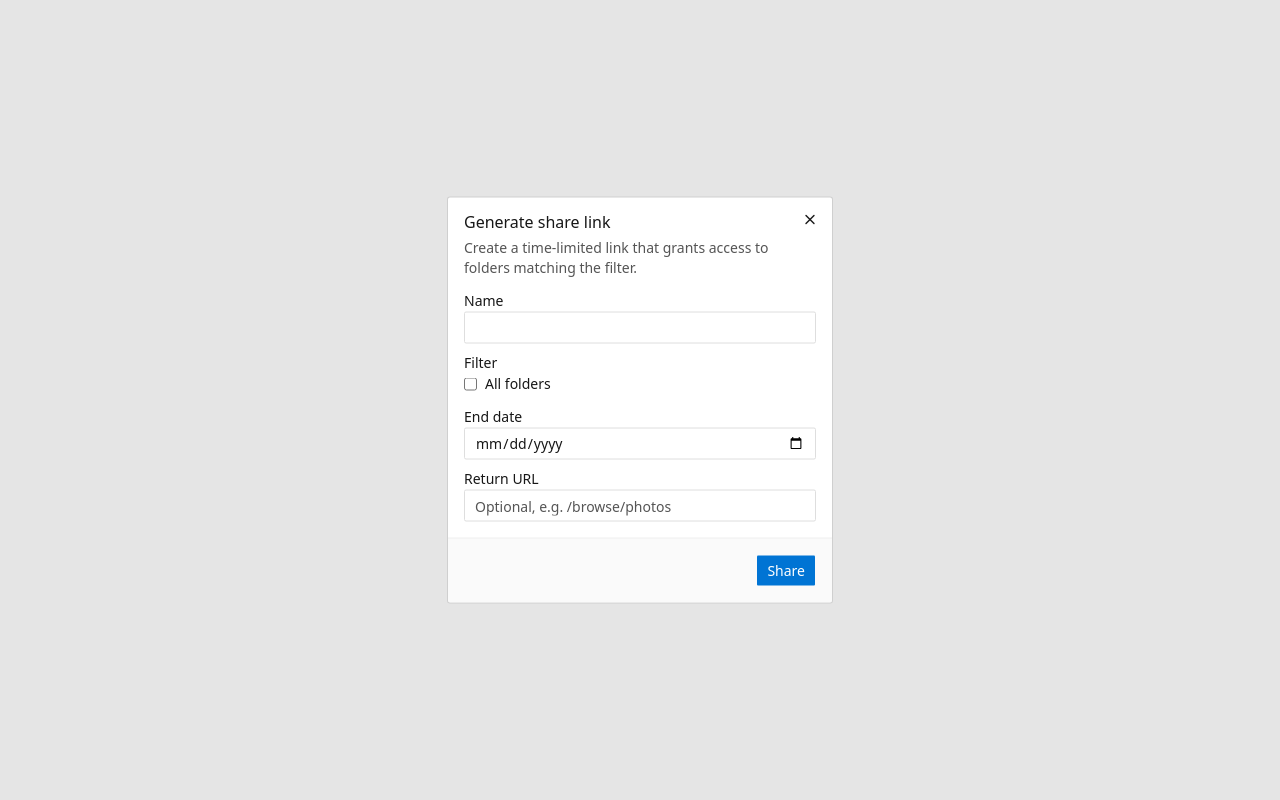
Scenario: shareLinkDialog error clearing › clears an error when the field is corrected after a failed submit
Note: Act — submit empty, then fix the Name field
Click the button "Share".
click(786, 570)  # box [756, 554, 816, 586]
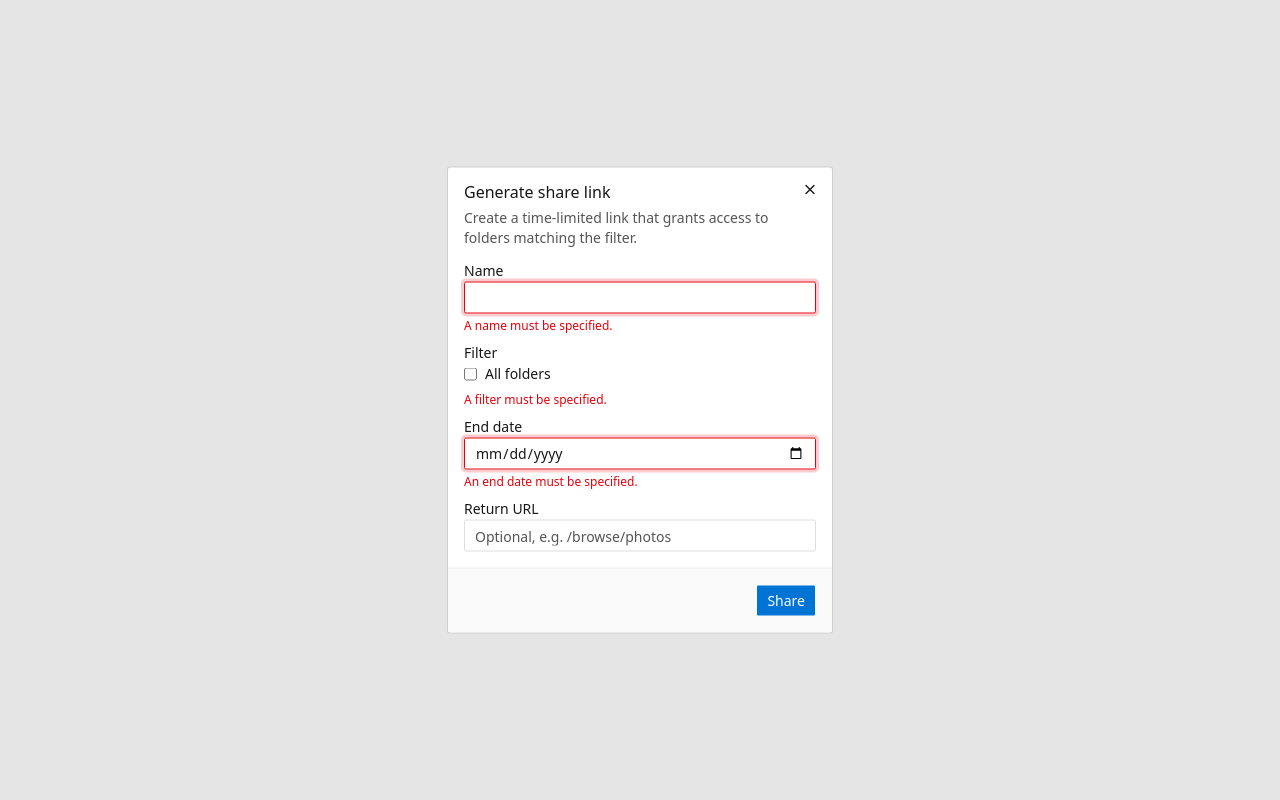
Type "Test User" into the field labelled "Name".
click(640, 298); type("Test User")  # box [464, 282, 816, 314]
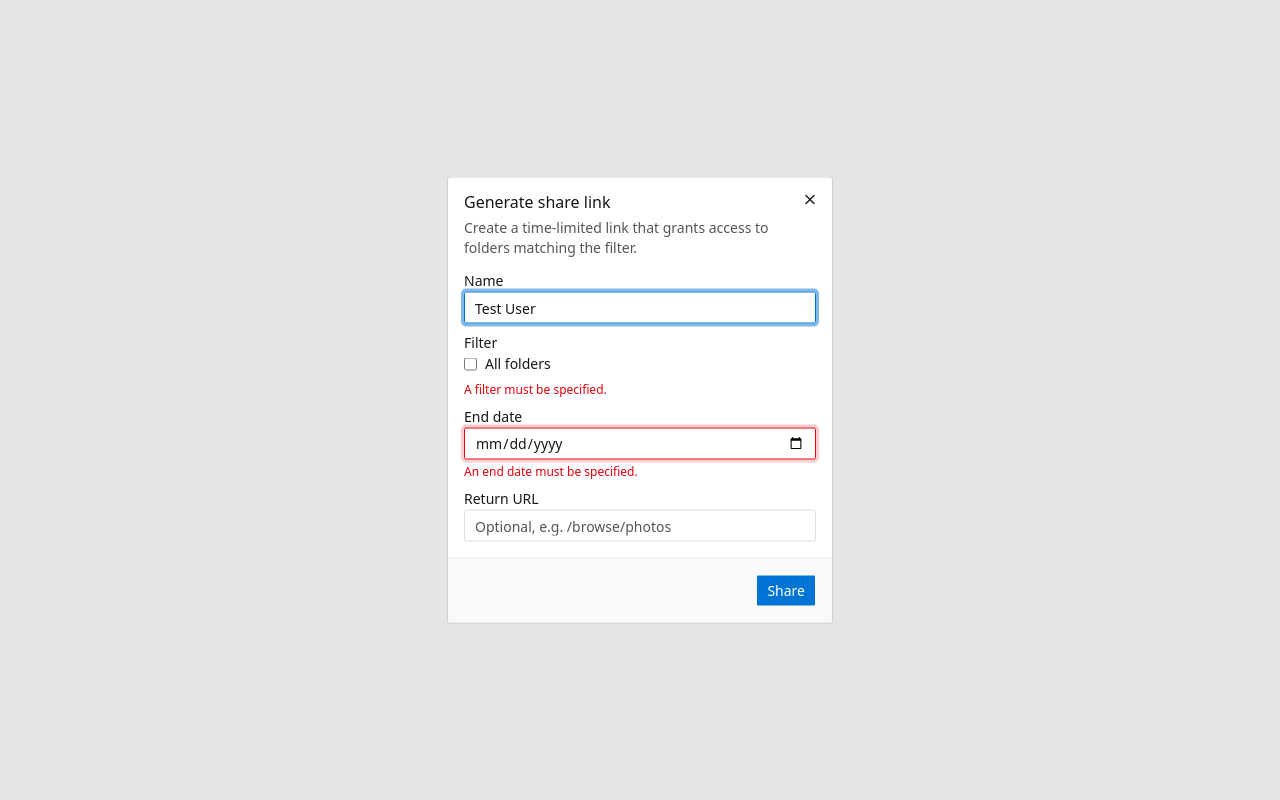
Expected: the text "A name must be specified." is gone
